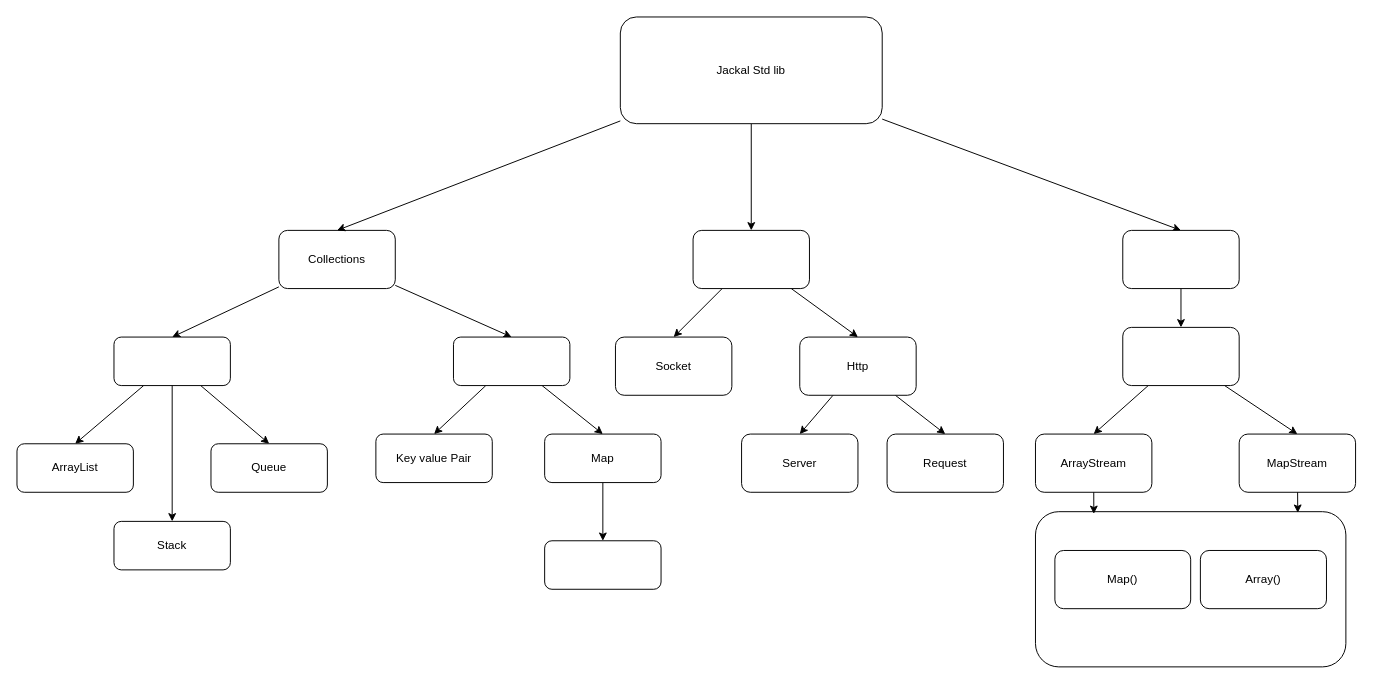
This 1373x684 diagram has some shape labels left out. Each missing label, with the box of its shape:
Abstract: (1122, 326, 1239, 386)
Hashmap: (544, 540, 661, 589)
List: (113, 336, 230, 386)
network: (692, 229, 809, 289)
Set: (453, 336, 570, 386)
Stream Api: (1122, 229, 1239, 289)
Stream Wrapper Object: (1035, 511, 1346, 667)
